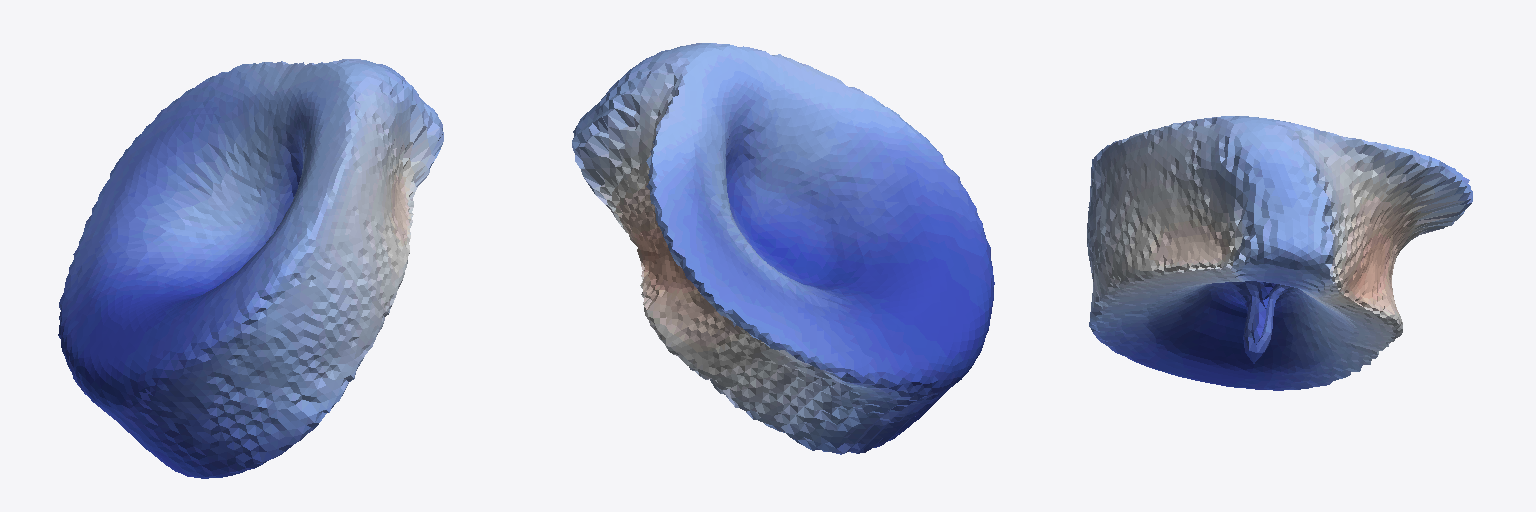
Rendered from colored_model.obj.
3 renders of one model, left to right at view 1: azimuth 30°, elevation 25°; view 2: azimuth 150°, elevation 25°; view 3: azimuth 270°, elevation 25°, orthographic.
Bounding box in the file's own units: 16.95 × 15.65 × 15.51.